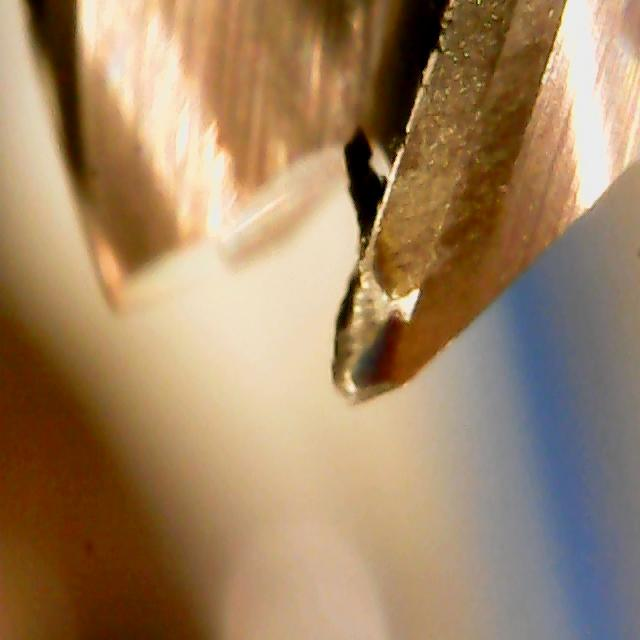Tool-wear-class-1: (296, 88, 455, 415)
